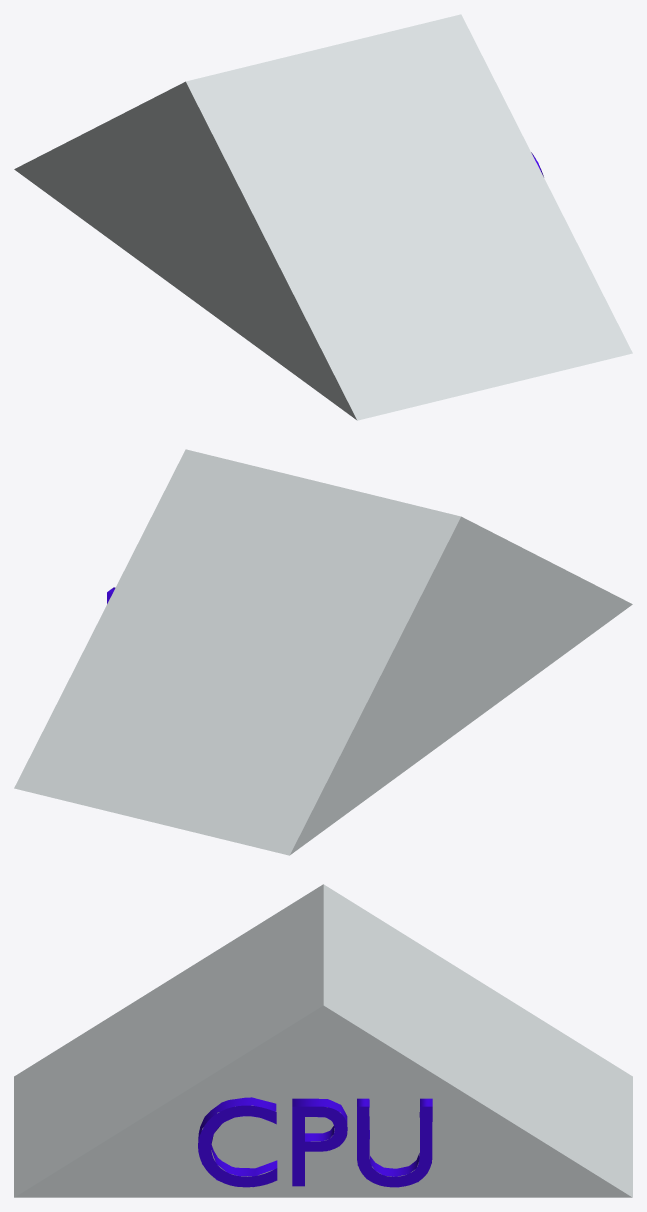
The model's file is roof1.fbx.
3 views of the same model, one above another, from view 1: azimuth 30°, elevation 25°; view 2: azimuth 150°, elevation 25°; view 3: azimuth 270°, elevation 25° (orthographic). The views are drawn at different scales.
Visible parts, largest first — view 1: CPU; view 2: CPU; view 3: CPU.
Part boxes in pixels (<box>): CPU: <box>14,14,632,420</box>; CPU: <box>14,449,632,855</box>; CPU: <box>14,884,632,1197</box>.
Bounding box in the file's own units: 179 × 124 × 362.
